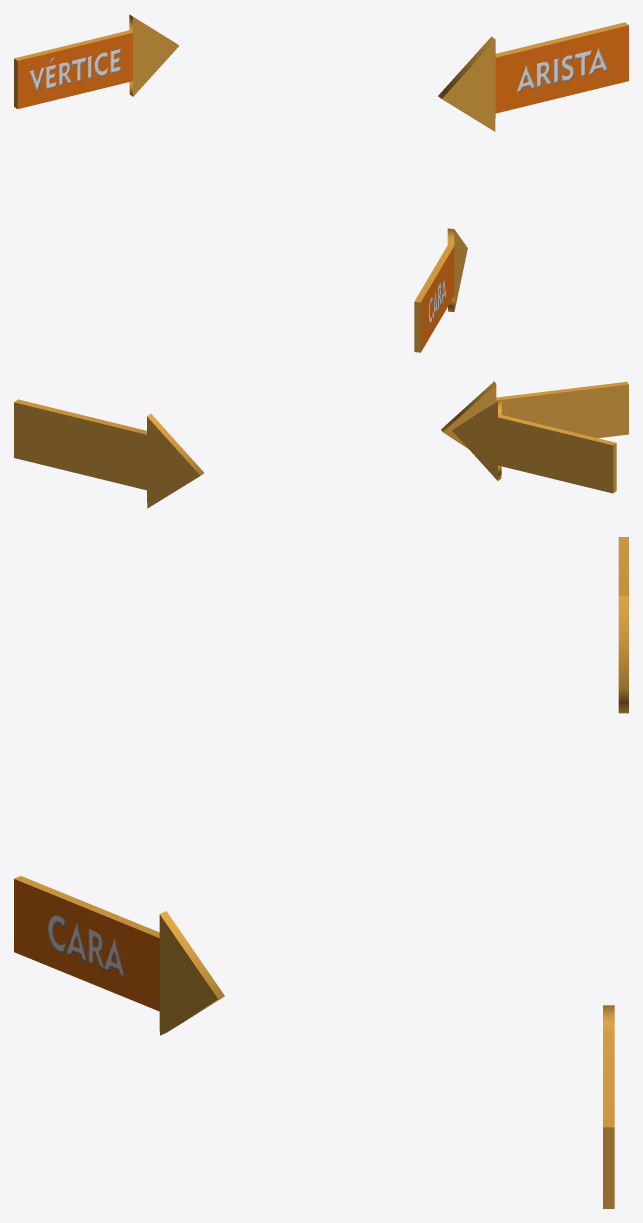
Rendered from let_cubo.fbx.
3 views of the same model, one above another, from view 1: azimuth 30°, elevation 25°; view 2: azimuth 150°, elevation 25°; view 3: azimuth 270°, elevation 25° (orthographic). The views are drawn at different scales.
Visible parts, largest first — view 1: polySurface67, polySurface69, polySurface65; view 2: polySurface67, polySurface69, polySurface65; view 3: polySurface65, polySurface67, polySurface69.
Part boxes in pixels (x1=…): polySurface67: x1=438, y1=22, x2=628, y2=131; polySurface69: x1=14, y1=14, x2=178, y2=109; polySurface65: x1=414, y1=228, x2=467, y2=352; polySurface67: x1=14, y1=399, x2=203, y2=508; polySurface69: x1=452, y1=399, x2=616, y2=493; polySurface65: x1=441, y1=381, x2=628, y2=448; polySurface65: x1=14, y1=876, x2=224, y2=1035; polySurface67: x1=603, y1=1005, x2=614, y2=1208; polySurface69: x1=618, y1=537, x2=628, y2=713.
Bounding box in the file's own units: 15.6 × 5.43 × 9.38.
4 materials, 3 textured.
